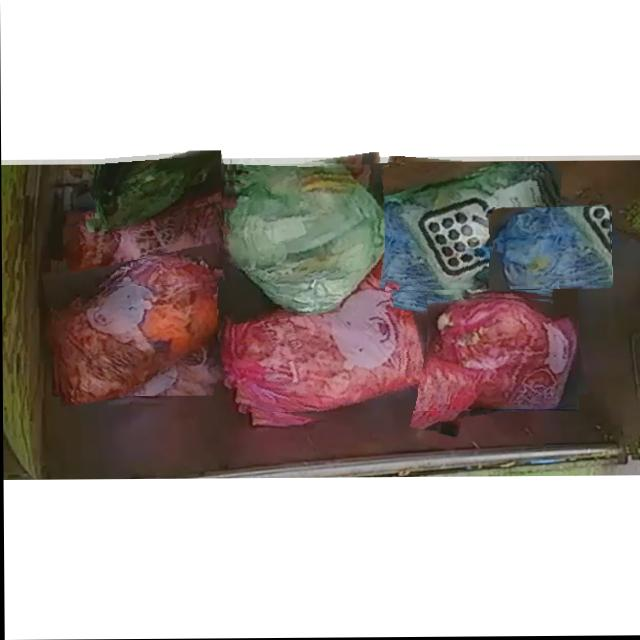general_trashbag: (225, 163, 388, 312), (385, 170, 555, 290), (95, 151, 221, 231)
other_trashbag: (220, 270, 471, 412), (53, 257, 216, 405), (427, 296, 576, 409), (63, 213, 220, 282), (492, 208, 612, 286)
